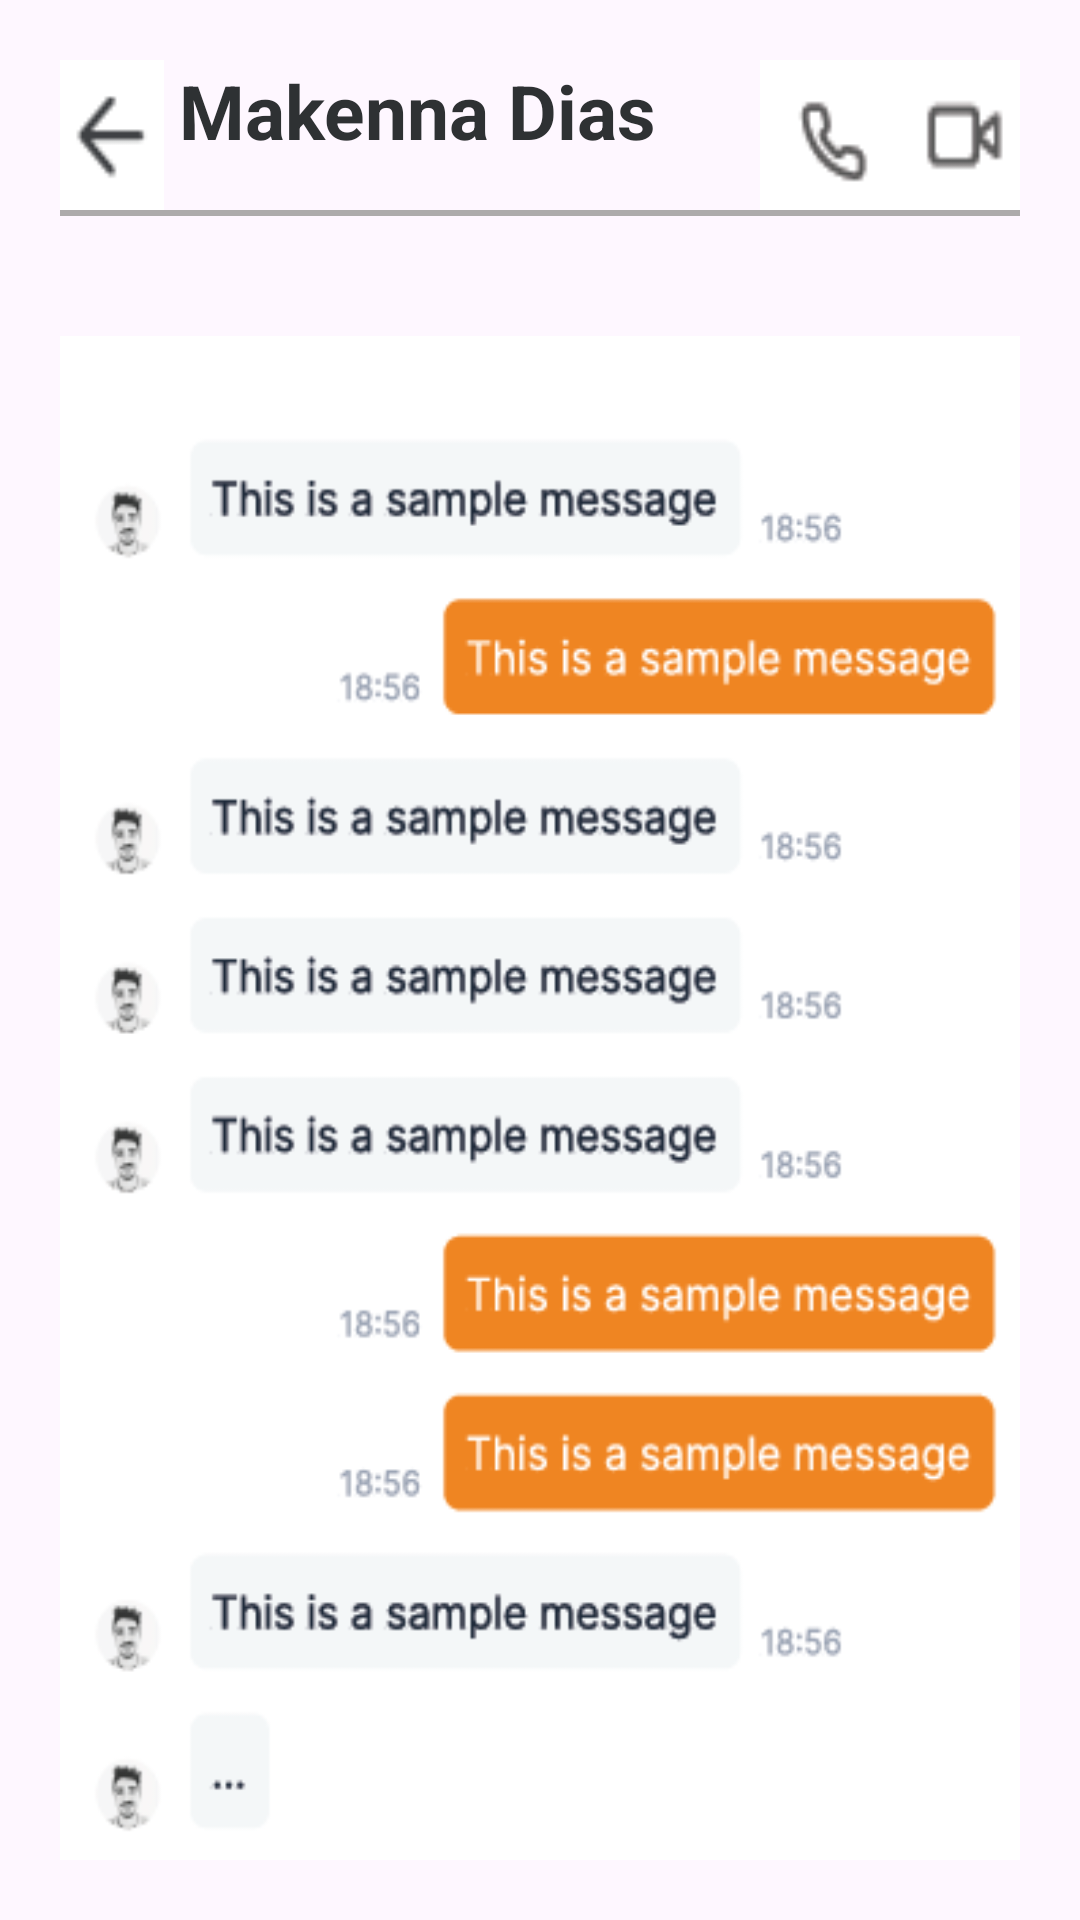

Screen size 1080px×1920px. Icon name, then its box in pixels as rect(x1, y1, x2, y2):
call: rect(800, 101, 867, 182)
